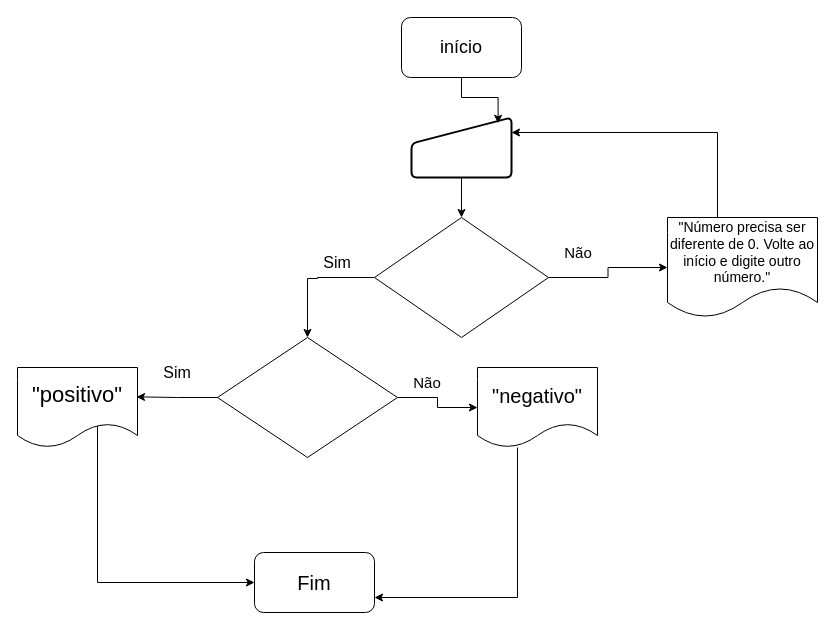
Image size: 835x630. Some labels were removed from this diagram. Here are the shapes that lost their labels. From the top down, the centre of each, then its label:
pixel 461 147: número
pixel 461 277: número != 0
pixel 307 397: número > 0
